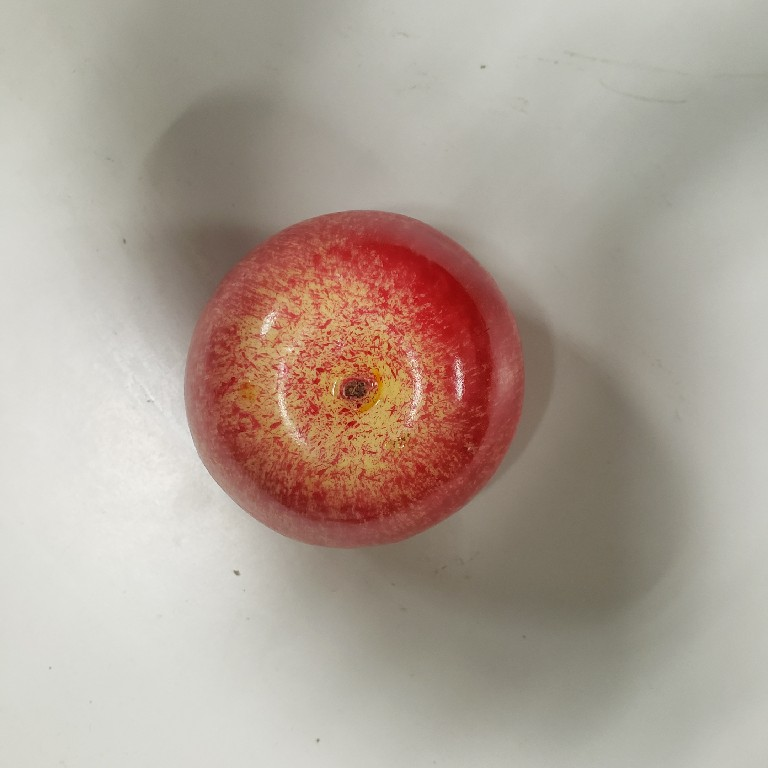fruit_apple: (177, 205, 531, 554)
